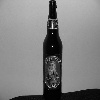beer: (42, 1, 65, 96)
